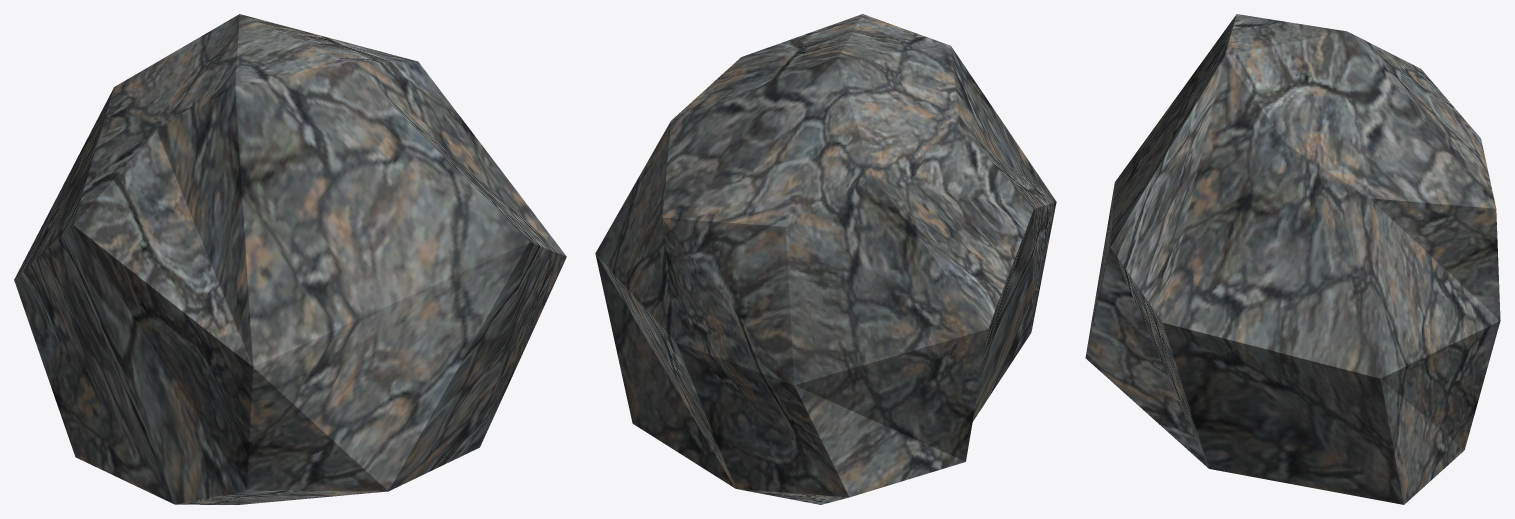
The model's file is C1SNLARGEROCKA_SC.obj.
3 views of the same model, side by side, from view 1: azimuth 30°, elevation 25°; view 2: azimuth 150°, elevation 25°; view 3: azimuth 270°, elevation 25° (orthographic). The views are drawn at different scales.
Parts seen in each view (by area): view 1: Node 0; view 2: Node 0; view 3: Node 0.
Part boxes in pixels (x1=…): Node 0: x1=14, y1=14, x2=566, y2=504; Node 0: x1=595, y1=14, x2=1056, y2=504; Node 0: x1=1085, y1=14, x2=1500, y2=504.
Bounding box in the file's own units: 12.17 × 12.8 × 10.89.
Materials: 1 (1 with a texture image).
